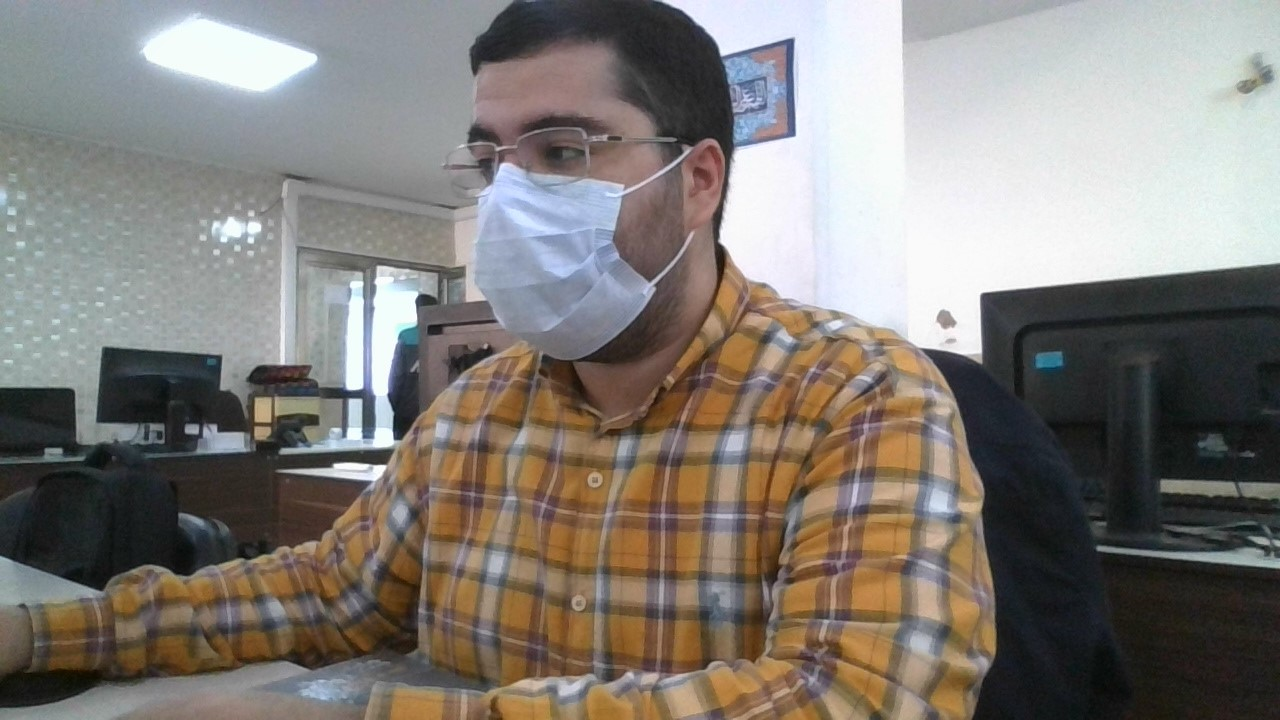Mask: (469, 162, 697, 364)
